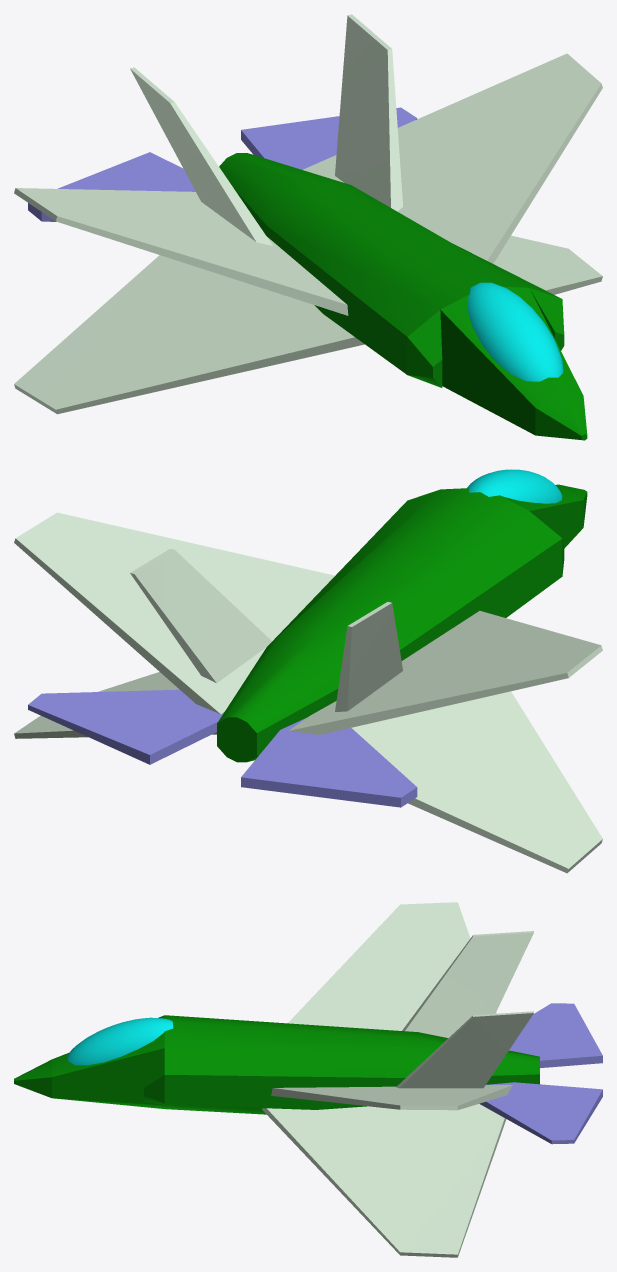
File: PlayerOBJ.fbx
3 views of the same model, one above another, from view 1: azimuth 30°, elevation 25°; view 2: azimuth 150°, elevation 25°; view 3: azimuth 270°, elevation 25° (orthographic). The views are drawn at different scales.
Visible parts, largest first — view 1: pCube5; view 2: pCube5; view 3: pCube5.
Boxes of the visible parts, x1,y1,x2,y2 form: pCube5: (14, 14, 602, 440); pCube5: (14, 469, 602, 873); pCube5: (14, 902, 602, 1257).
Bounding box in the file's own units: 1.19 × 0.4968 × 1.44.
